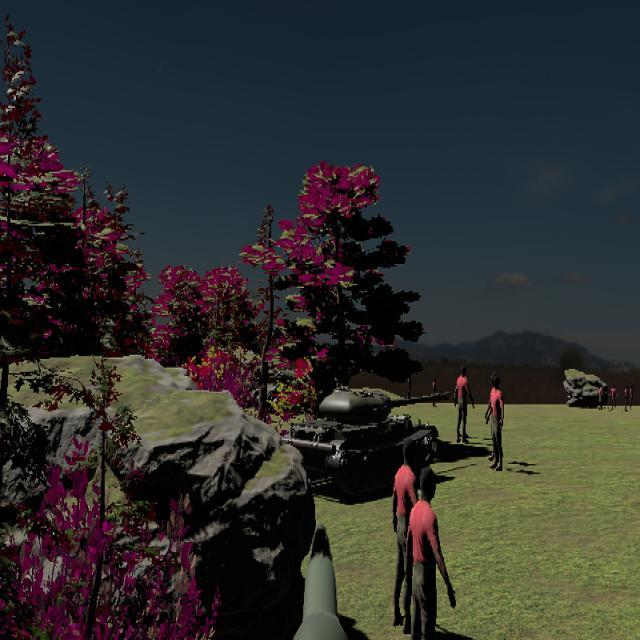Human: (406, 466, 457, 640), (392, 437, 423, 626), (485, 372, 504, 468), (454, 363, 475, 445)
Tank: (287, 380, 447, 499)
